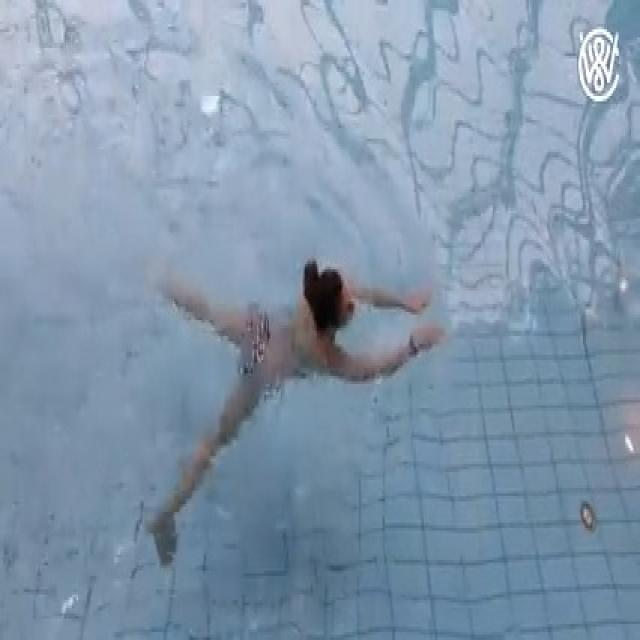Swimming: (148, 263, 444, 559)
